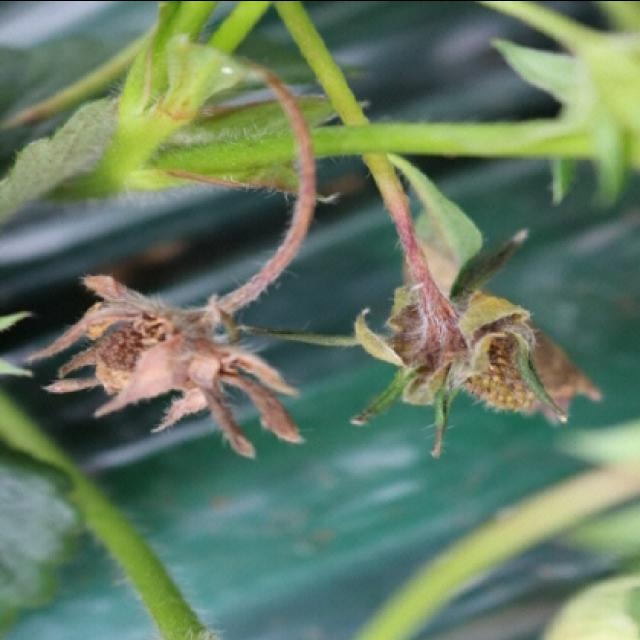Gray Mold: (24, 213, 309, 458), (349, 200, 604, 456)
